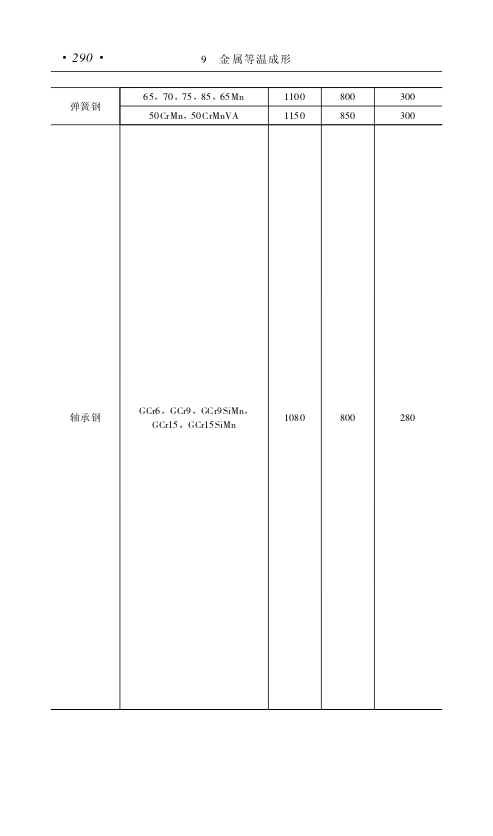table: (50, 87, 441, 711)
